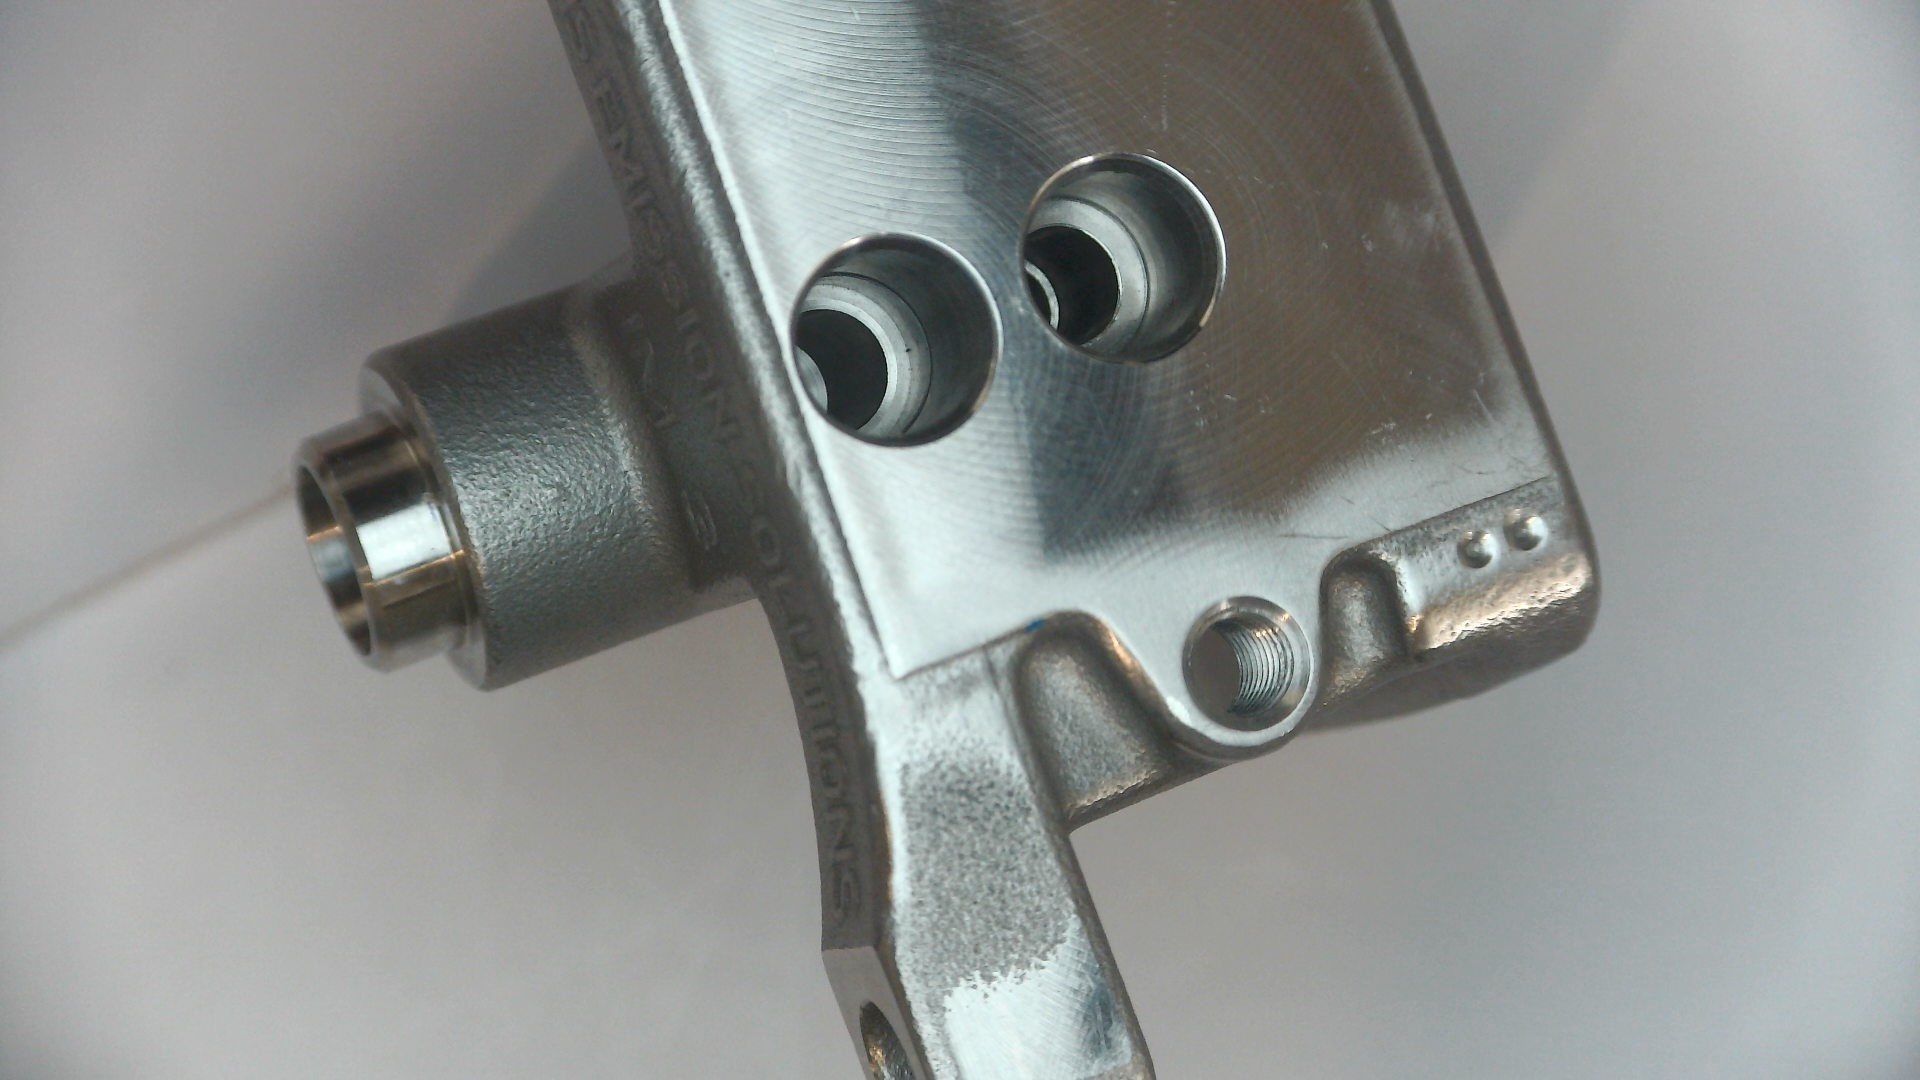thread_absence: (785, 222, 1007, 458), (1011, 144, 1232, 372)
thread_presence: (1212, 605, 1298, 720)
